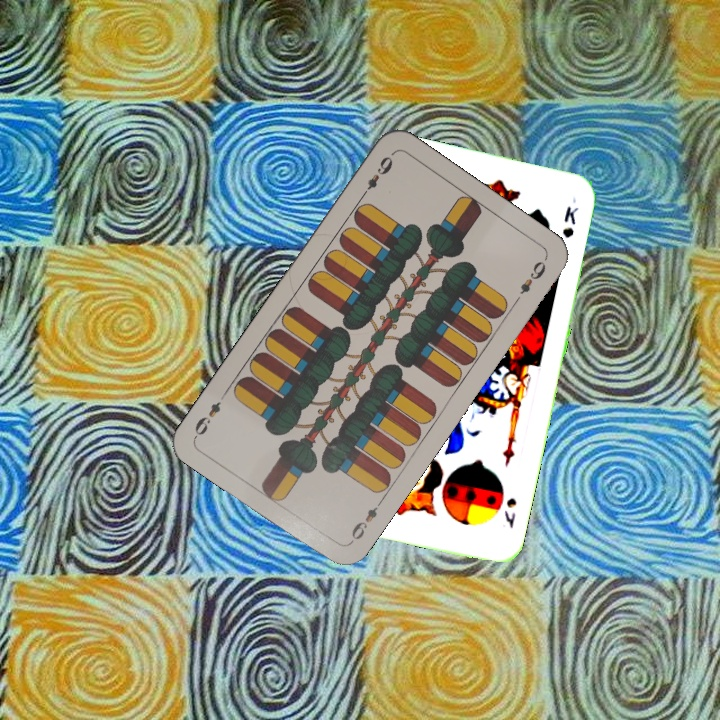E9: (345, 496, 385, 547), (356, 152, 396, 201)
SK: (500, 493, 519, 531)
